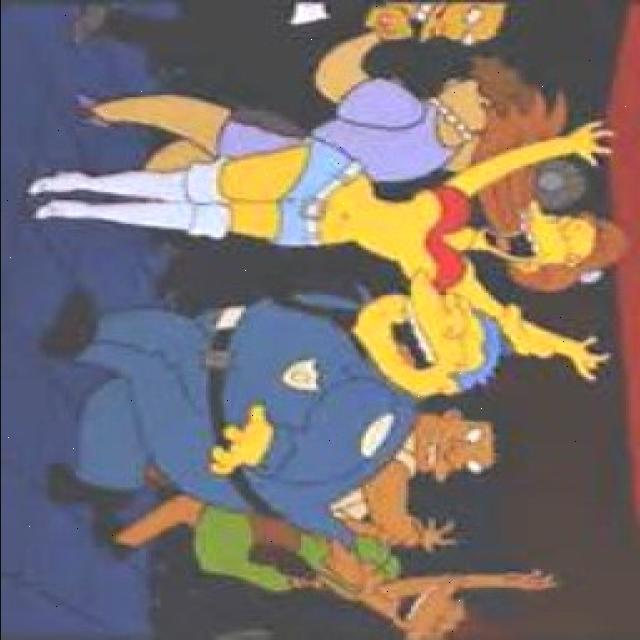Chief Wiggam: (345, 271, 500, 401)
